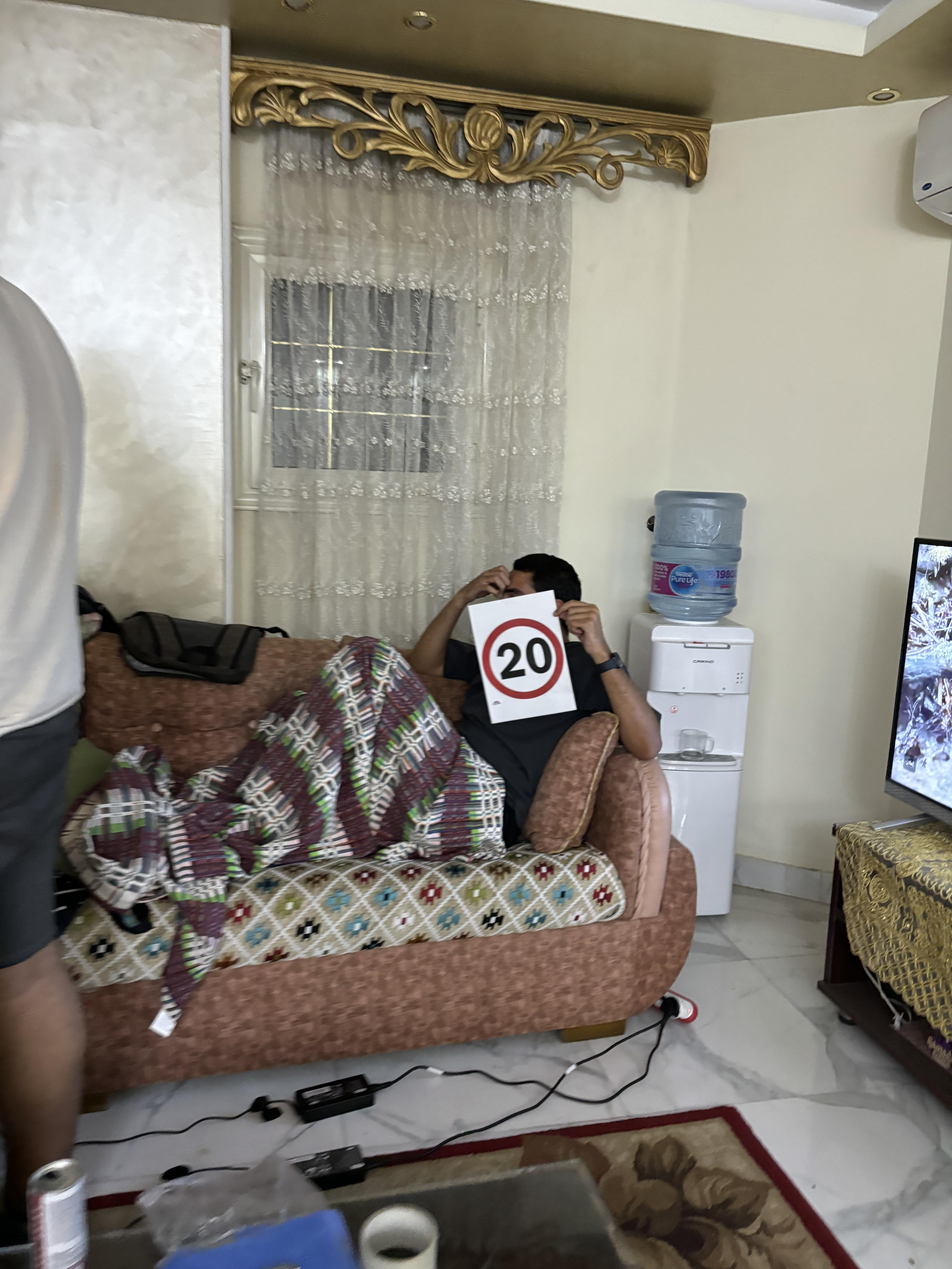20-Speed: (479, 616, 572, 703)
